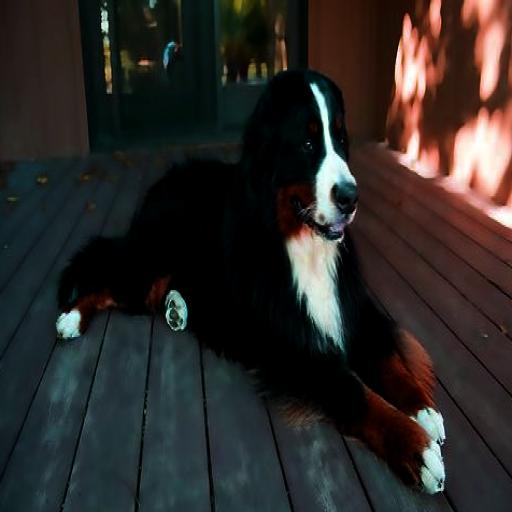dog_face: (257, 72, 352, 239)
